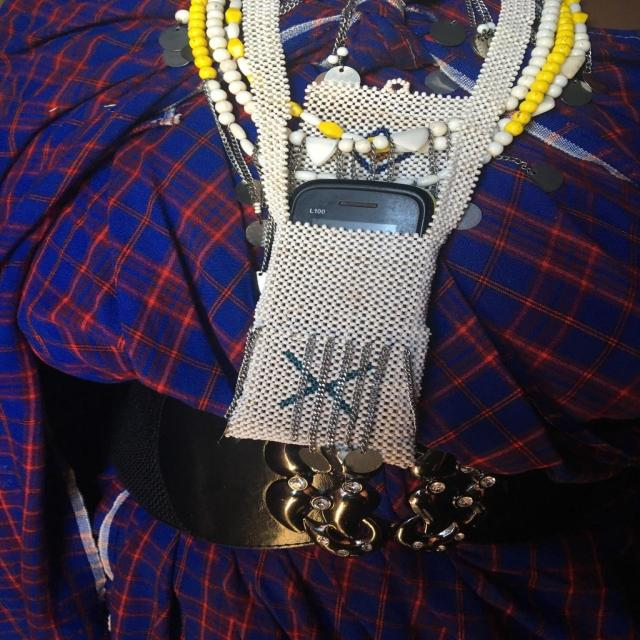Phone: (283, 180, 433, 237)
